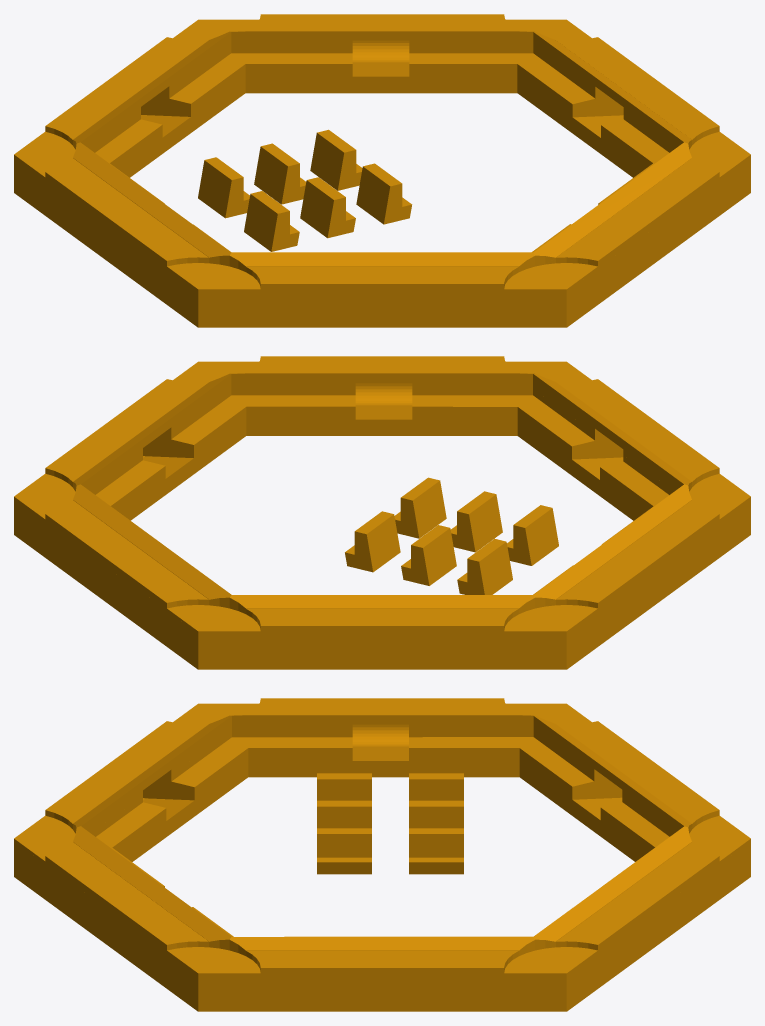
Rendered from base_brick.glb.
3 renders of one model, top to bottom at view 1: azimuth 30°, elevation 25°; view 2: azimuth 150°, elevation 25°; view 3: azimuth 270°, elevation 25°, orthographic.
Parts seen in each view (by area): view 1: base_brick; view 2: base_brick; view 3: base_brick.
Part boxes in pixels (bbox=[...]): base_brick: bbox=[14, 14, 750, 327]; base_brick: bbox=[14, 356, 750, 669]; base_brick: bbox=[14, 698, 750, 1011].
Size of the model in its own units: 79 by 6.95 by 91.22.
